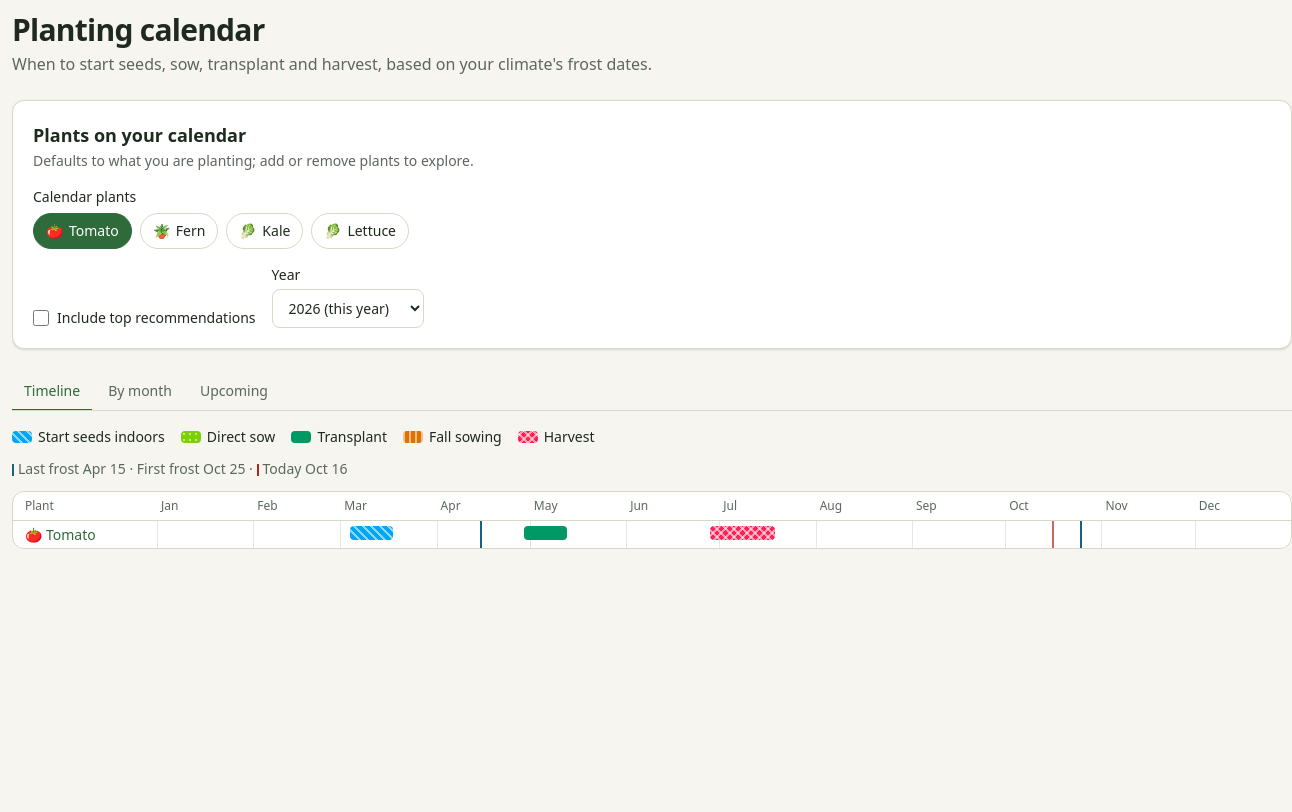
Test case: CalendarPage › includes recommendations when the toggle is turned on
The width and height of the screenshot is (1292, 812).
Expected: the element named "Tomato schedule" is shown, 25,521 -> 1082,548
Click the checkbox labelled "Include top recommendations". click: click(41, 318)
box: 33,310 -> 49,326
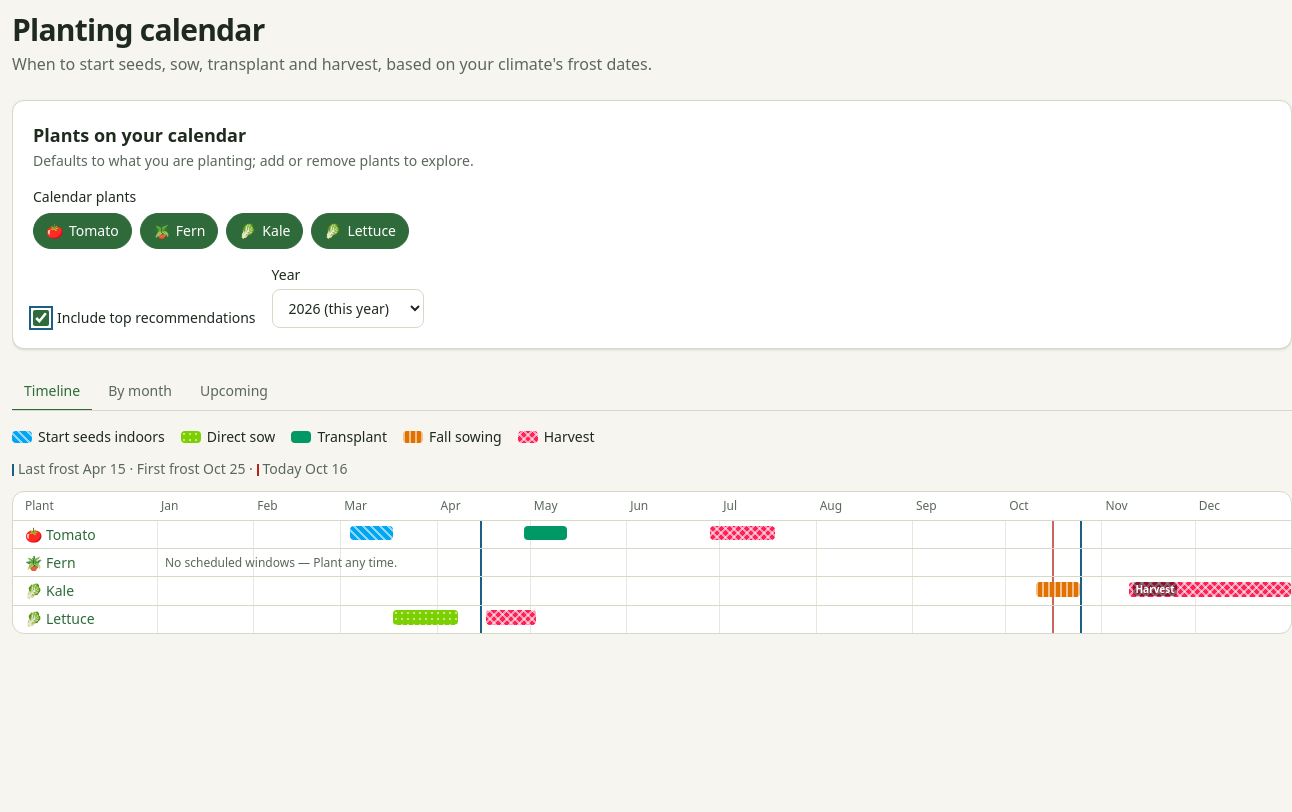
Expected: the element named "Lettuce schedule" is shown, 25,606 -> 1082,633
